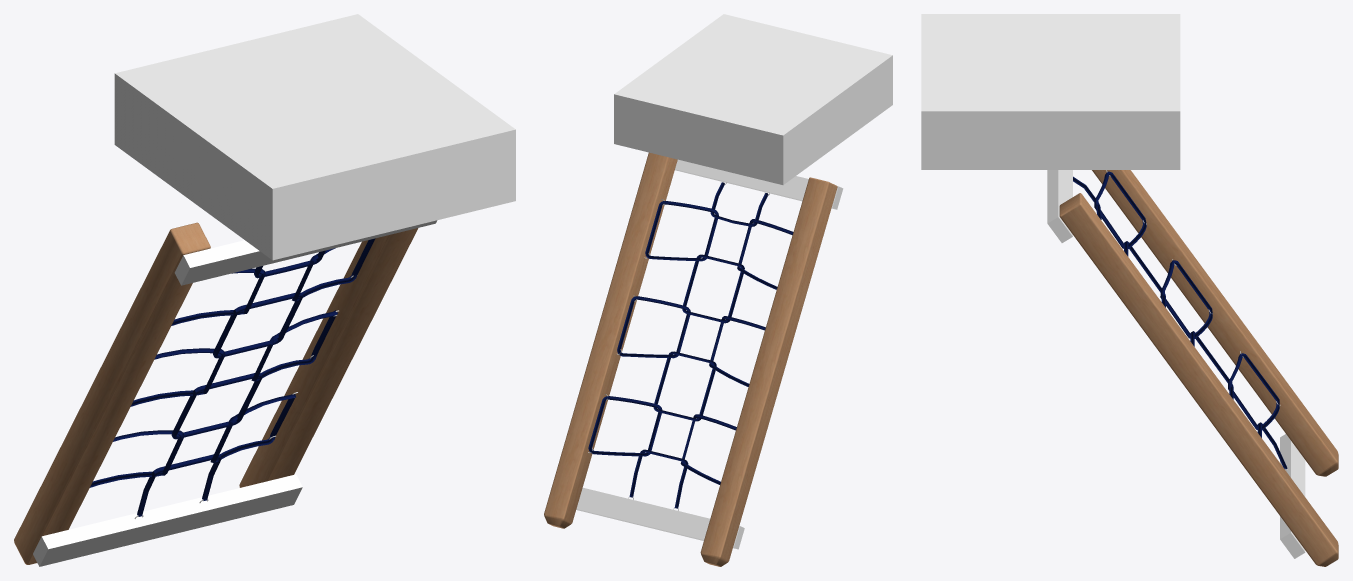
3 views of the same model, side by side, from view 1: azimuth 30°, elevation 25°; view 2: azimuth 150°, elevation 25°; view 3: azimuth 270°, elevation 25° (orthographic). The views are drawn at different scales.
Parts seen in each view (by area): view 1: joint,0,6, Cube151, Cube151_1, Cube151_3; view 2: joint,0,6, Cube151, Cube151_3, Cube151_1; view 3: joint,0,6, Cube151, Cube151_3, Cube151_1.
Part boxes in pixels (left/top/right/bottom): joint,0,6: left=114, top=14, right=515, bottom=260; Cube151: left=14, top=222, right=418, bottom=564; Cube151_1: left=33, top=220, right=437, bottom=566; Cube151_3: left=90, top=238, right=375, bottom=516; joint,0,6: left=614, top=14, right=892, bottom=184; Cube151: left=544, top=152, right=837, bottom=566; Cube151_3: left=588, top=182, right=793, bottom=508; Cube151_1: left=576, top=159, right=843, bottom=549; joint,0,6: left=921, top=14, right=1180, bottom=169; Cube151: left=1059, top=170, right=1338, bottom=566; Cube151_3: left=1073, top=171, right=1287, bottom=469; Cube151_1: left=1047, top=170, right=1305, bottom=558.
Bounding box in the file's own units: 0.9308 × 1.94 × 1.61.
5 materials, 2 textured.
